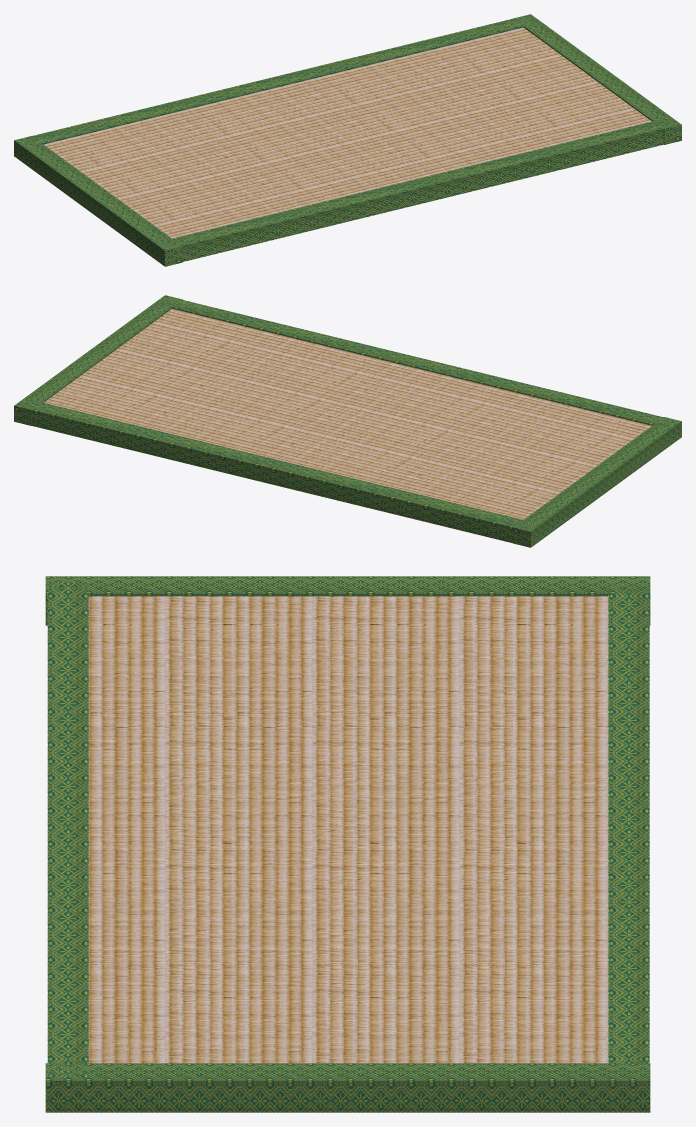
File: jp-tatami.glb
3 views of the same model, one above another, from view 1: azimuth 30°, elevation 25°; view 2: azimuth 150°, elevation 25°; view 3: azimuth 270°, elevation 25° (orthographic). The views are drawn at different scales.
Visible parts, largest first — view 1: Object_2, Object_3; view 2: Object_2, Object_3; view 3: Object_2, Object_3.
Boxes of the visible parts, <box> form: Object_2: <box>44,27,651,238</box>; Object_3: <box>14,14,681,266</box>; Object_2: <box>44,308,651,519</box>; Object_3: <box>14,295,681,547</box>; Object_2: <box>88,596,608,1063</box>; Object_3: <box>45,576,650,1112</box>.
Size of the model in its own units: 4.07 by 0.1202 by 2.06.
Materials: 2 (2 with a texture image).
